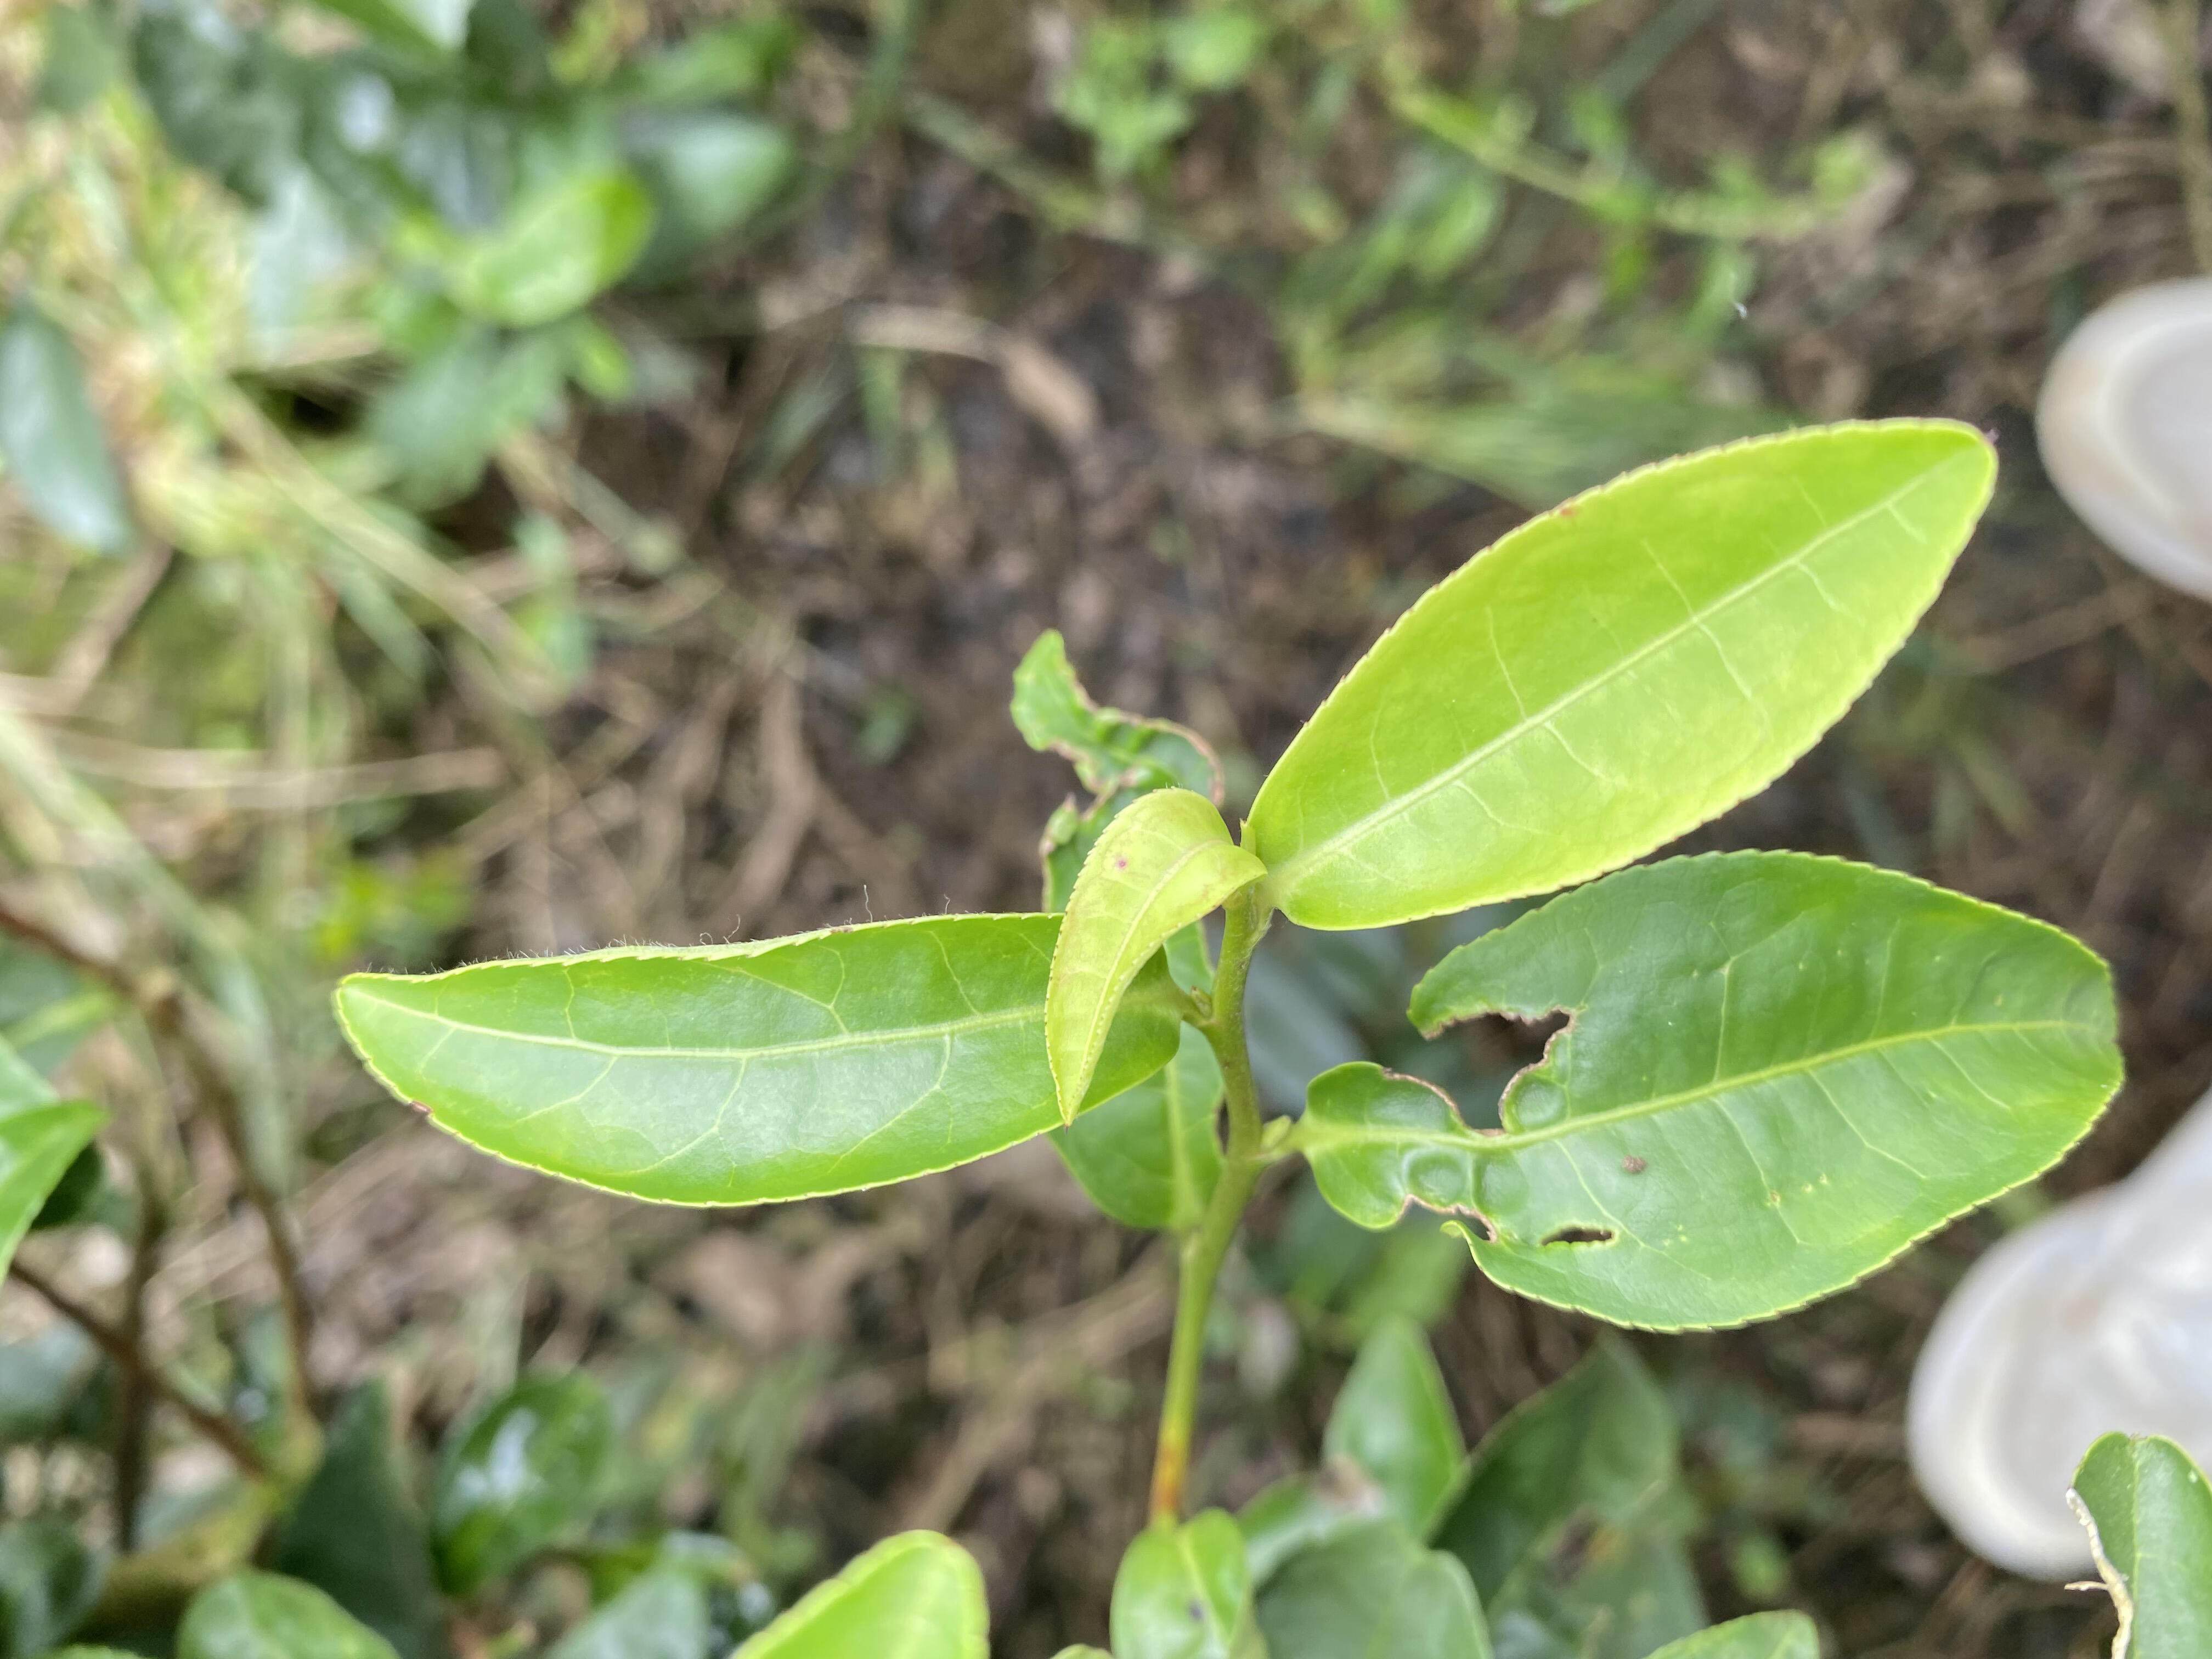chihuo_high: (1306, 850, 2127, 1335), (1003, 629, 1226, 917)
healthy: (1249, 418, 2000, 934), (331, 910, 1176, 1209)
